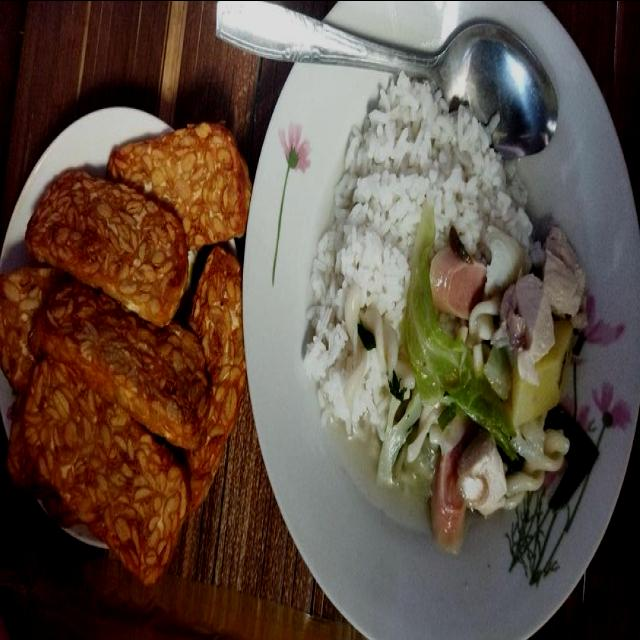tempe goreng: (24, 363, 186, 583), (26, 170, 186, 321), (103, 122, 249, 250)
